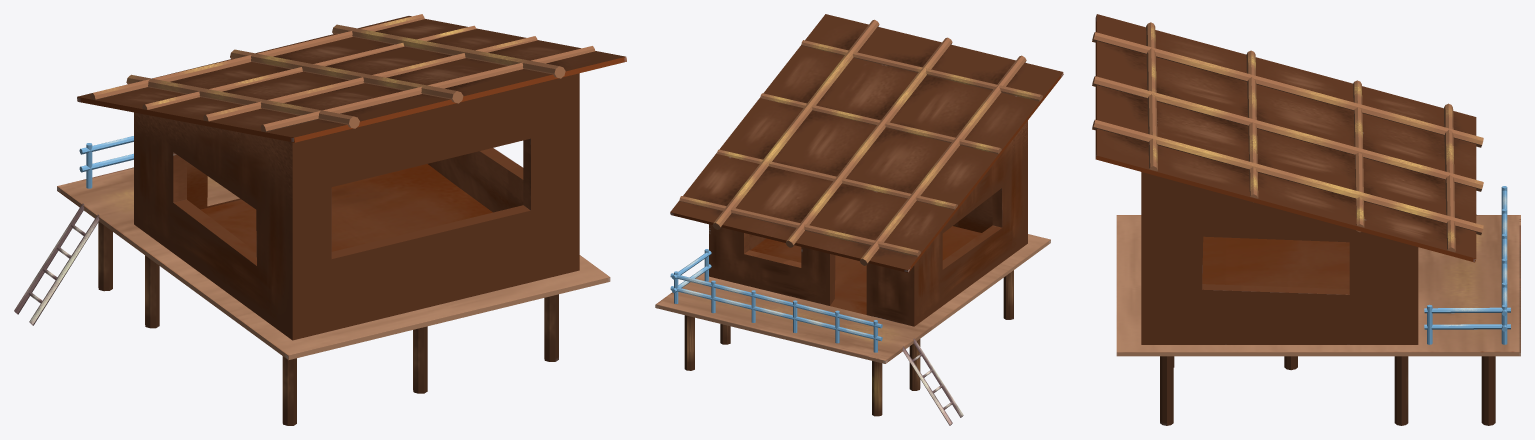
The model's file is CHOZA 1.fbx.
3 renders of one model, left to right at view 1: azimuth 30°, elevation 25°; view 2: azimuth 150°, elevation 25°; view 3: azimuth 270°, elevation 25°, orthographic. The views are drawn at different scales.
Parts seen in each view (by area): view 1: PAREDES, TECHO, PALOS_TECHO, PISO, ESTACAS_PISO, ESCALERA, CERCA; view 2: TECHO, PAREDES, PALOS_TECHO, PISO, CERCA, ESTACAS_PISO, ESCALERA; view 3: TECHO, PAREDES, PISO, PALOS_TECHO, ESTACAS_PISO, CERCA.
Boxes of the visible parts, x1=… form: PAREDES: x1=134, y1=73, x2=579, y2=340; TECHO: x1=77, y1=16, x2=626, y2=142; PALOS_TECHO: x1=90, y1=14, x2=595, y2=132; PISO: x1=57, y1=167, x2=610, y2=360; ESTACAS_PISO: x1=98, y1=222, x2=558, y2=425; ESCALERA: x1=14, y1=203, x2=99, y2=325; CERCA: x1=79, y1=136, x2=133, y2=188; TECHO: x1=670, y1=14, x2=1063, y2=272; PAREDES: x1=709, y1=121, x2=1027, y2=326; PALOS_TECHO: x1=679, y1=19, x2=1042, y2=265; PISO: x1=655, y1=234, x2=1050, y2=363; CERCA: x1=670, y1=249, x2=882, y2=352; ESTACAS_PISO: x1=684, y1=270, x2=1013, y2=416; ESCALERA: x1=902, y1=338, x2=963, y2=425; TECHO: x1=1095, y1=14, x2=1476, y2=262; PAREDES: x1=1141, y1=172, x2=1418, y2=344; PISO: x1=1116, y1=215, x2=1520, y2=356; PALOS_TECHO: x1=1092, y1=22, x2=1483, y2=252; ESTACAS_PISO: x1=1160, y1=356, x2=1495, y2=425; CERCA: x1=1424, y1=186, x2=1510, y2=344.
Size of the model in its own units: 1052 by 844 by 1135.
